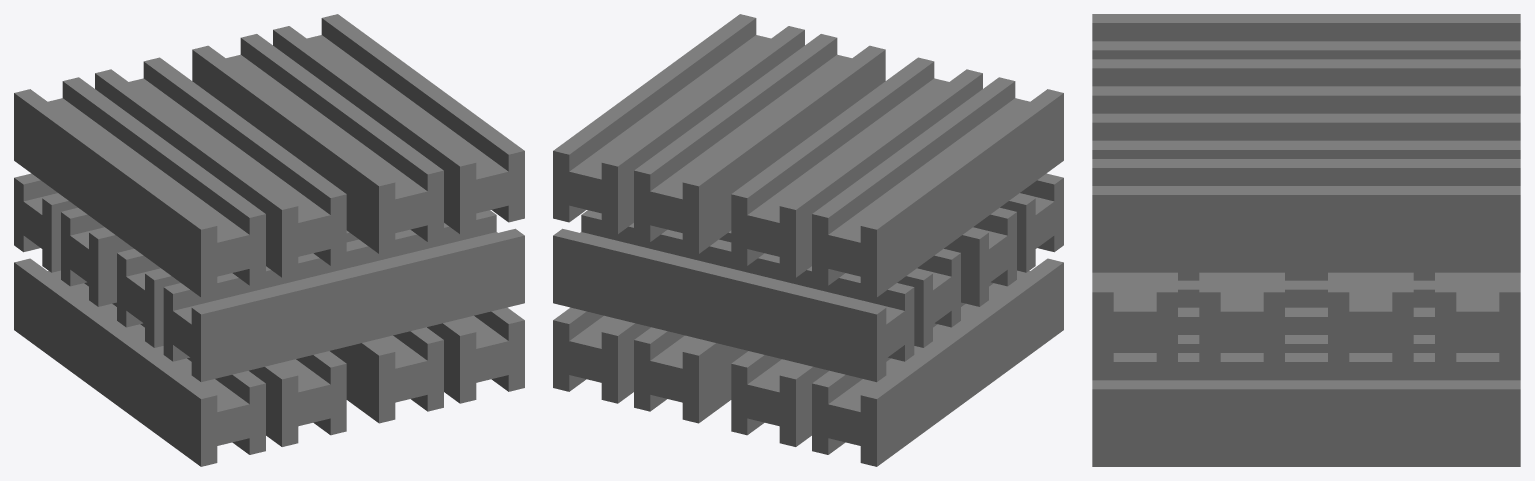
Rendered from Iron.obj.
3 views of the same model, side by side, from view 1: azimuth 30°, elevation 25°; view 2: azimuth 150°, elevation 25°; view 3: azimuth 270°, elevation 25° (orthographic). The views are drawn at different scales.
Visible parts, largest first — view 1: Iron; view 2: Iron; view 3: Iron.
Part boxes in pixels (bbox=[...]): Iron: bbox=[14, 14, 524, 466]; Iron: bbox=[553, 14, 1063, 466]; Iron: bbox=[1092, 14, 1520, 466].
Size of the model in its own units: 20 by 14 by 20.
Materials: 1 (1 with a texture image).
